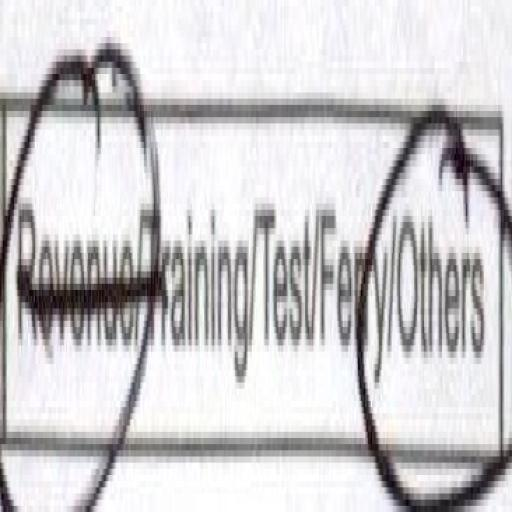check: (386, 0, 507, 512)
